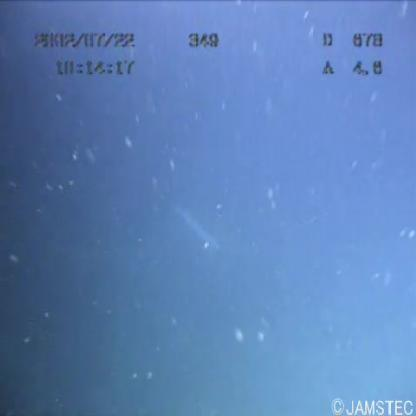Rác: (165, 201, 222, 251)
